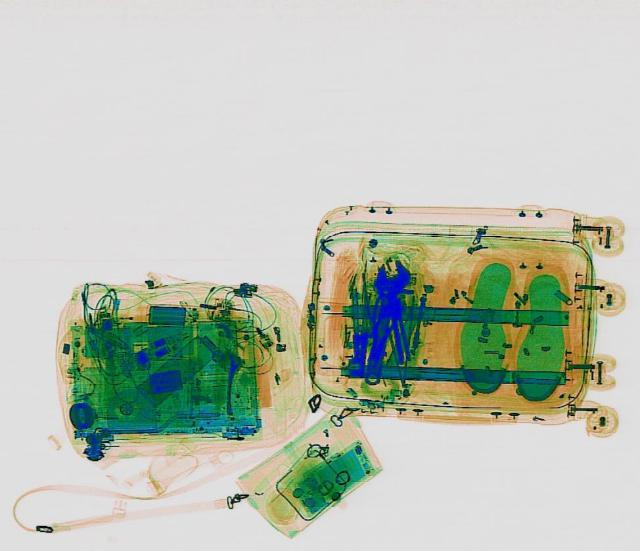Wrench: (351, 259, 411, 386)
